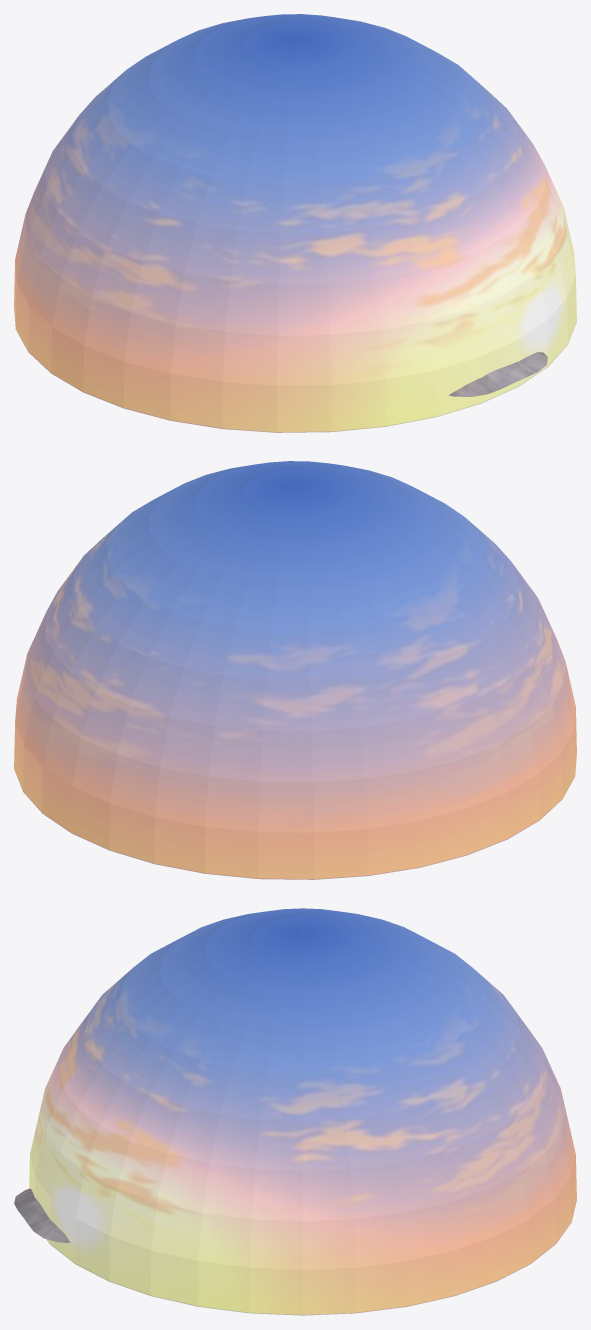
The model's file is lugar-monterrey-ciudad.glb.
3 renders of one model, top to bottom at view 1: azimuth 30°, elevation 25°; view 2: azimuth 150°, elevation 25°; view 3: azimuth 270°, elevation 25°, orthographic. The views are drawn at different scales.
Parts seen in each view (by area): view 1: planoC, vertT; view 2: planoC; view 3: planoC, vertT.
Boxes of the visible parts, x1=… form: planoC: x1=14, y1=14, x2=576, y2=432; vertT: x1=449, y1=352, x2=547, y2=396; planoC: x1=14, y1=461, x2=576, y2=879; planoC: x1=29, y1=908, x2=576, y2=1315; vertT: x1=14, y1=1188, x2=70, y2=1242.
Bounding box in the file's own units: 6584 × 3530 × 6763.
Materials: 12 (11 with a texture image).
